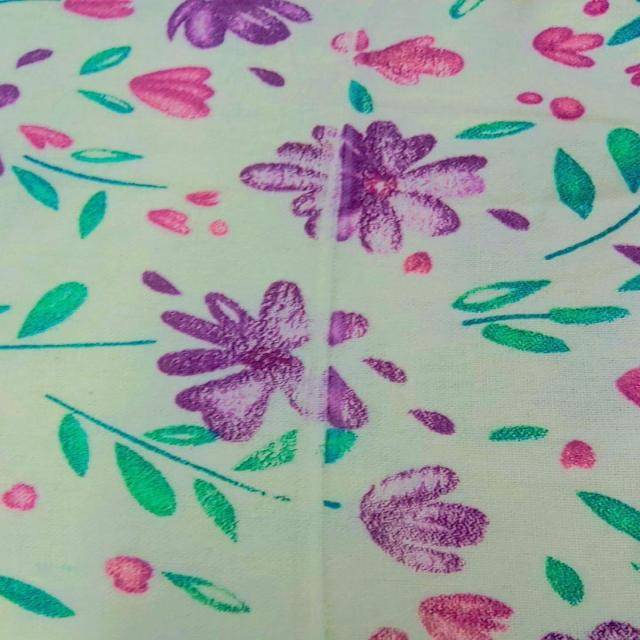selvet: (281, 0, 368, 635)
